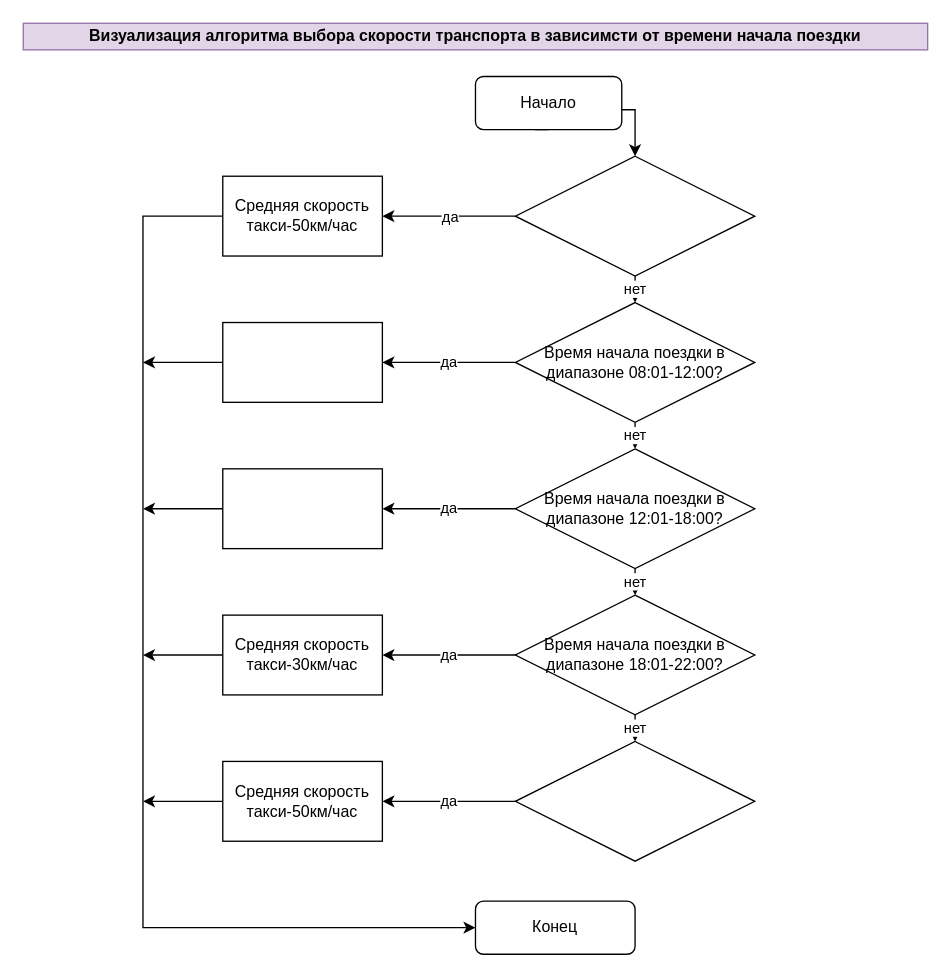
Image size: 951x978. Some labels were removed from this diagram. Here are the shapes that lost their labels. From the top down, the centre of each, then its label:
(634,215): Время начала поездки в диапазоне 00:01-08:00?
(301,361): Средняя скорость такси-35км/час
(301,508): Средняя скорость такси-42км/час
(634,800): Время начала поездки в диапазоне 22:01-00:00?
